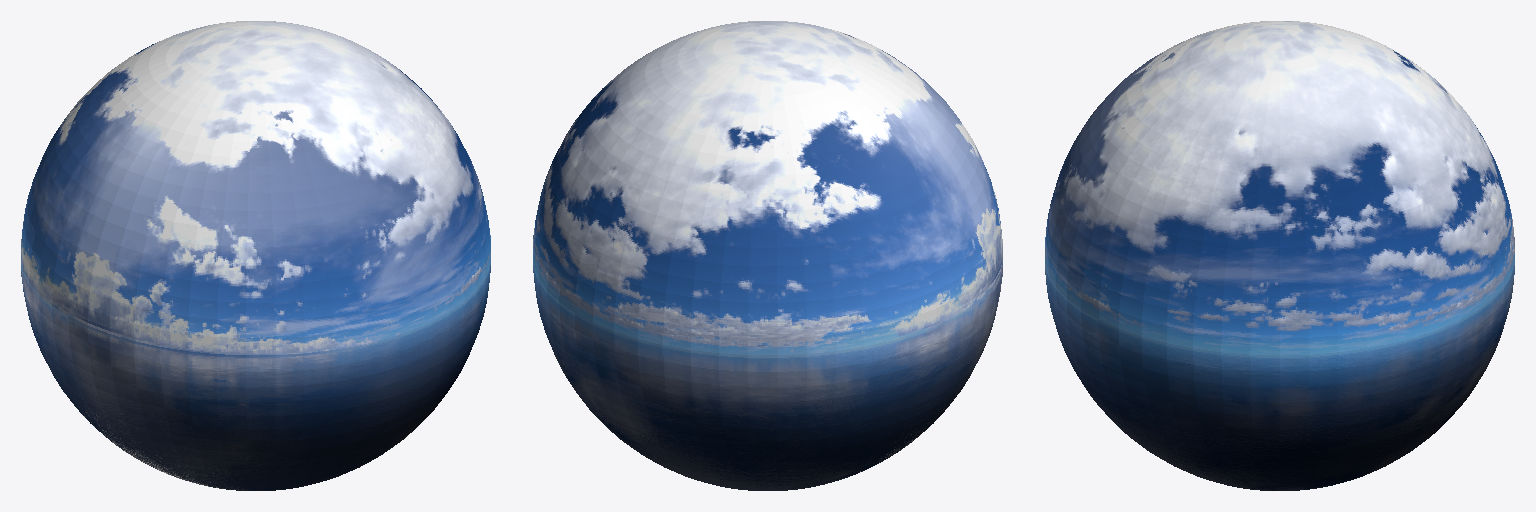
3 views of the same model, side by side, from view 1: azimuth 30°, elevation 25°; view 2: azimuth 150°, elevation 25°; view 3: azimuth 270°, elevation 25° (orthographic).
Parts seen in each view (by area): view 1: pSphere1; view 2: pSphere1; view 3: pSphere1.
Part boxes in pixels (left/top/right/bottom): pSphere1: left=21, top=21, right=490, bottom=490; pSphere1: left=533, top=21, right=1002, bottom=490; pSphere1: left=1045, top=21, right=1514, bottom=490.
Bounding box in the file's own units: 100001 × 100001 × 99804.
Materials: 1 (1 with a texture image).